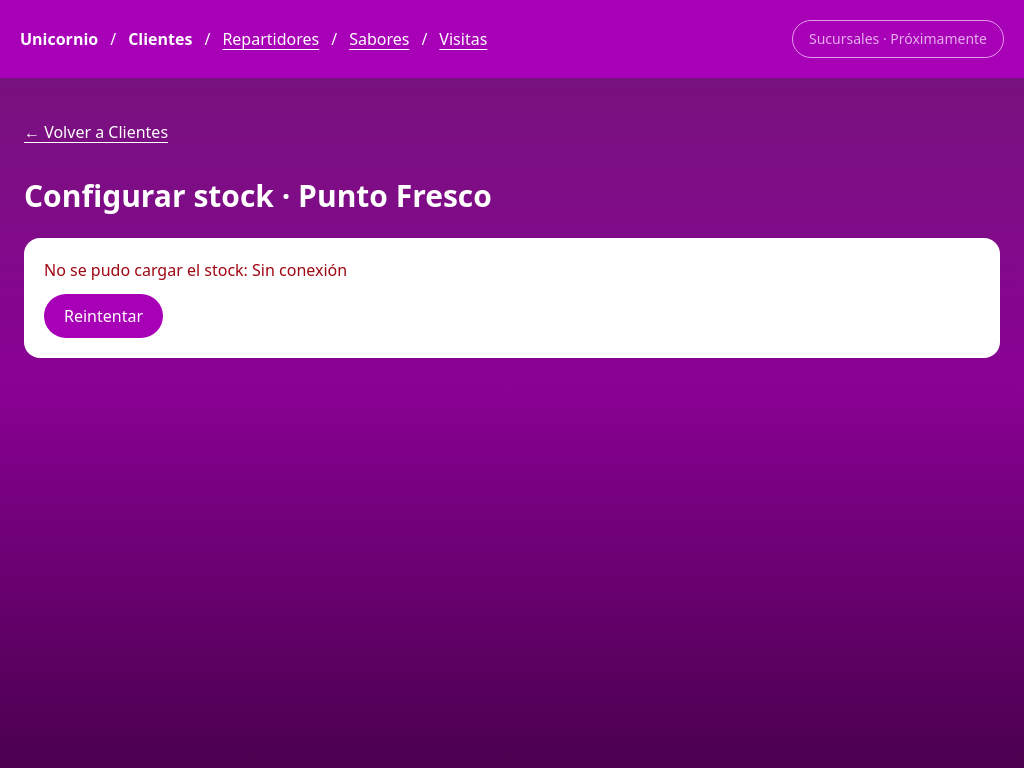
Test: StockObjetivoPage › shows an error and retries the stock request
Check: the message "No se pudo cargar el stock: Sin conexión Reintentar" is shown, box [24,238,1000,358]
Click the button "Reintentar".
click(104, 316)  # box [44,294,163,338]
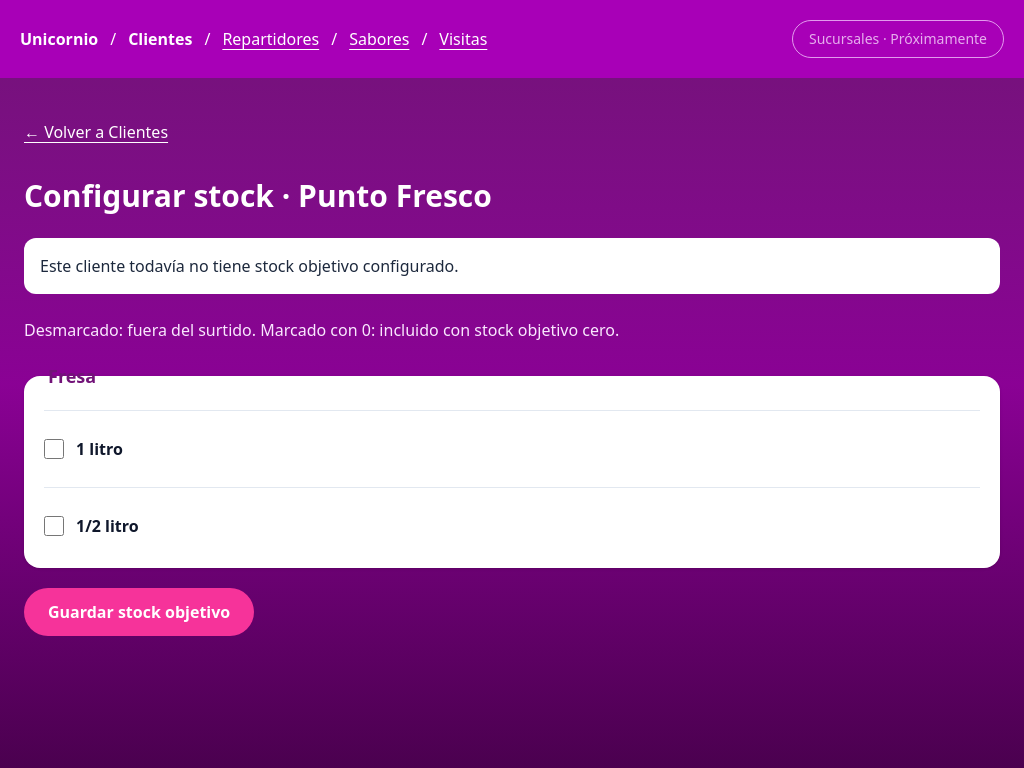
Check: the text "todavía no tiene stock objetivo" is shown, box [40,255,458,277]
